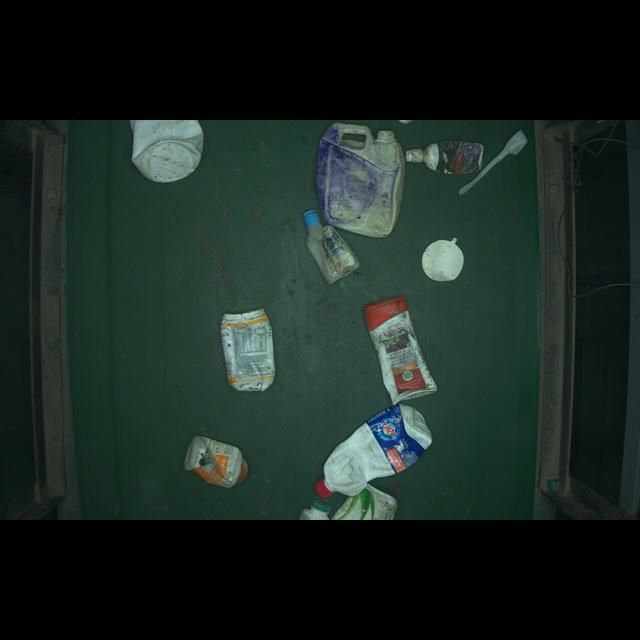mix PET: (311, 406, 439, 504), (352, 293, 459, 403), (213, 307, 285, 395), (176, 427, 270, 490), (299, 201, 363, 289)
